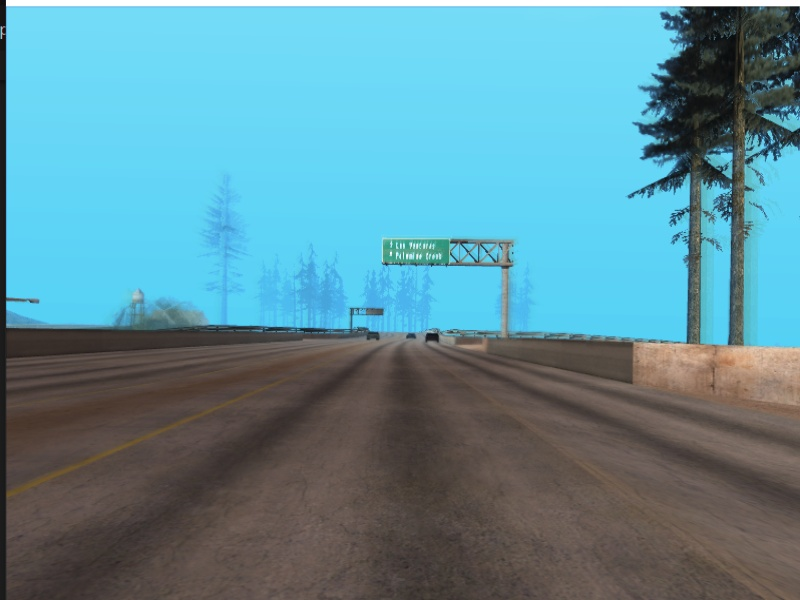vehicle: (427, 330, 442, 344), (365, 331, 380, 341)
